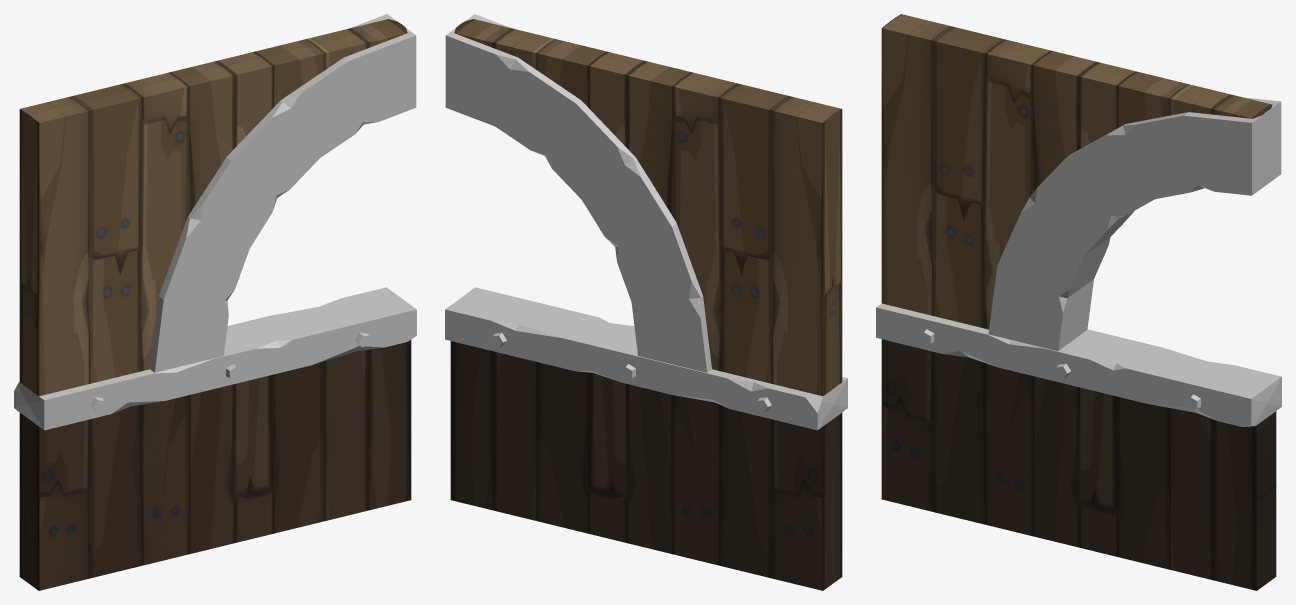
Rendered from SM_Bld_Wall_Window_Double_02.fbx.
The picture shows the model from 3 angles, left to right: view 1: azimuth 30°, elevation 25°; view 2: azimuth 150°, elevation 25°; view 3: azimuth 330°, elevation 25°; orthographic projection.
Visible parts, largest first — view 1: SM_Bld_Wall_Window_Double_02; view 2: SM_Bld_Wall_Window_Double_02; view 3: SM_Bld_Wall_Window_Double_02.
Part boxes in pixels (x1=…): SM_Bld_Wall_Window_Double_02: x1=14, y1=14, x2=416, y2=590; SM_Bld_Wall_Window_Double_02: x1=445, y1=14, x2=847, y2=590; SM_Bld_Wall_Window_Double_02: x1=876, y1=14, x2=1281, y2=590.
Bounding box in the file's own units: 252 × 301 × 42.5.
